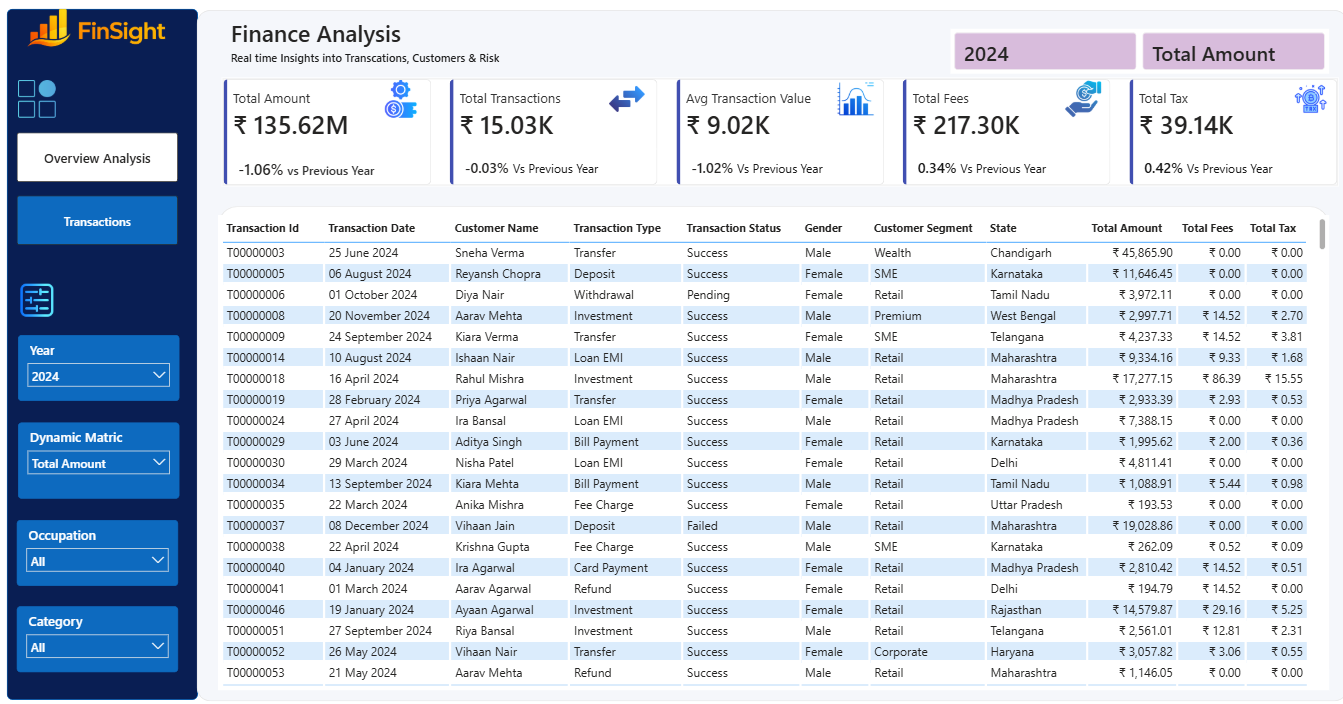

This screenshot's page, from the dashboard's own definition file:
{"tool":"powerbi","page":{"name":"Transactions","canvas":[1800,950],"ordinal":1},"visuals":[{"type":"shape","box":[11.7,11.7,255,921.7],"z":0},{"type":"shape","box":[265,13.3,1535,921.7],"z":1000},{"type":"image","box":[0,0,266.7,75],"z":2000},{"type":"cardVisual","fields":{"Data":["finance_transactions.Dashboard Title"]},"box":[293.3,11.7,458.3,86.7],"z":3000},{"type":"cardVisual","fields":{"Data":["finance_transactions.Total Amount","finance_transactions.Total Transaction","finance_transactions.Avg Transaction Value","finance_transactions.Total Fees","finance_transactions.Total Tax"]},"box":[293.3,98.3,1503.3,155],"z":4000},{"type":"image","box":[511.7,106.7,50,50],"z":5000},{"type":"image","box":[813.3,106.7,50,50],"z":6000},{"type":"image","box":[1421.7,106.7,50,50],"z":7000},{"type":"image","box":[1118.3,106.7,50,50],"z":8000},{"type":"image","box":[1725,106.7,50,50],"z":9000},{"type":"shape","box":[293.3,275,1481.7,643.3],"z":10000},{"type":"cardVisual","fields":{"Data":["finance_transactions.Selected Year","finance_transactions.Selected Dynamic Measure"]},"box":[1270,38.3,505,60],"z":11000},{"type":"tableEx","fields":{"Values":["finance_transactions.transaction_id","finance_transactions.transaction_date","customers.customer_name","finance_transactions.transaction_type","finance_transactions.transaction_status","customers.gender","customers.customer_segment","customers.state","finance_transactions.Total Amount","finance_transactions.Total Fees","finance_transactions.Total Tax"]},"box":[293.3,286.7,1481.7,633.3],"z":12000},{"type":"slicer","fields":{"Values":["Calendar Table.Year"]},"box":[26.7,446.7,215,88.3],"z":13000},{"type":"slicer","fields":{"Values":["Dynamic Matric.Dynamic Matric"]},"box":[26.7,563.3,215,101.7],"z":14000},{"type":"slicer","fields":{"Values":["customers.occupation"]},"box":[25,693.3,215,88.3],"z":15000},{"type":"slicer","fields":{"Values":["finance_transactions.merchant_category"]},"box":[25,808.3,215,88.3],"z":16000},{"type":"pageNavigator","box":[25,176.7,215,151.7],"z":17000},{"type":"image","box":[26.7,106.7,50,50],"z":18000},{"type":"image","box":[26.7,375,50,50],"z":19000}]}

Visuals, with their boxes on the page's 1800x950 design canvas (x1, y1, x2, y2). These are canvas units, not pixel positions in the 1343x704 screenshot, which may show the page scaled, cropped or inside an application window:
shape: {"left": 12, "top": 12, "right": 267, "bottom": 933}
shape: {"left": 265, "top": 13, "right": 1800, "bottom": 935}
image: {"left": 0, "top": 0, "right": 267, "bottom": 75}
cardVisual - finance_transactions.Dashboard Title: {"left": 293, "top": 12, "right": 752, "bottom": 98}
cardVisual - finance_transactions.Total Amount x finance_transactions.Total Transaction: {"left": 293, "top": 98, "right": 1797, "bottom": 253}
image: {"left": 512, "top": 107, "right": 562, "bottom": 157}
image: {"left": 813, "top": 107, "right": 863, "bottom": 157}
image: {"left": 1422, "top": 107, "right": 1472, "bottom": 157}
image: {"left": 1118, "top": 107, "right": 1168, "bottom": 157}
image: {"left": 1725, "top": 107, "right": 1775, "bottom": 157}
shape: {"left": 293, "top": 275, "right": 1775, "bottom": 918}
cardVisual - finance_transactions.Selected Year x finance_transactions.Selected Dynamic Measure: {"left": 1270, "top": 38, "right": 1775, "bottom": 98}
tableEx - finance_transactions.transaction_id x finance_transactions.transaction_date: {"left": 293, "top": 287, "right": 1775, "bottom": 920}
slicer - Calendar Table.Year: {"left": 27, "top": 447, "right": 242, "bottom": 535}
slicer - Dynamic Matric.Dynamic Matric: {"left": 27, "top": 563, "right": 242, "bottom": 665}
slicer - customers.occupation: {"left": 25, "top": 693, "right": 240, "bottom": 782}
slicer - finance_transactions.merchant_category: {"left": 25, "top": 808, "right": 240, "bottom": 897}
pageNavigator: {"left": 25, "top": 177, "right": 240, "bottom": 328}
image: {"left": 27, "top": 107, "right": 77, "bottom": 157}
image: {"left": 27, "top": 375, "right": 77, "bottom": 425}
